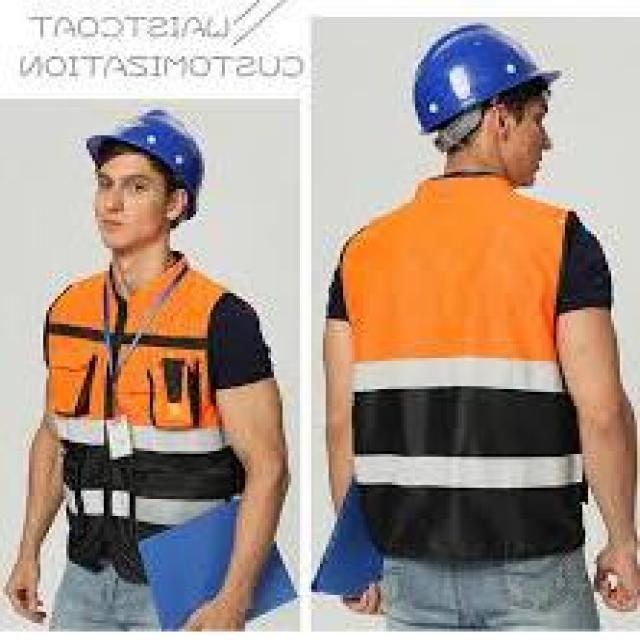Reflective-Jacket: (320, 178, 614, 502), (34, 262, 286, 516)
Safety-Helmet: (398, 20, 565, 141), (70, 98, 236, 212)
